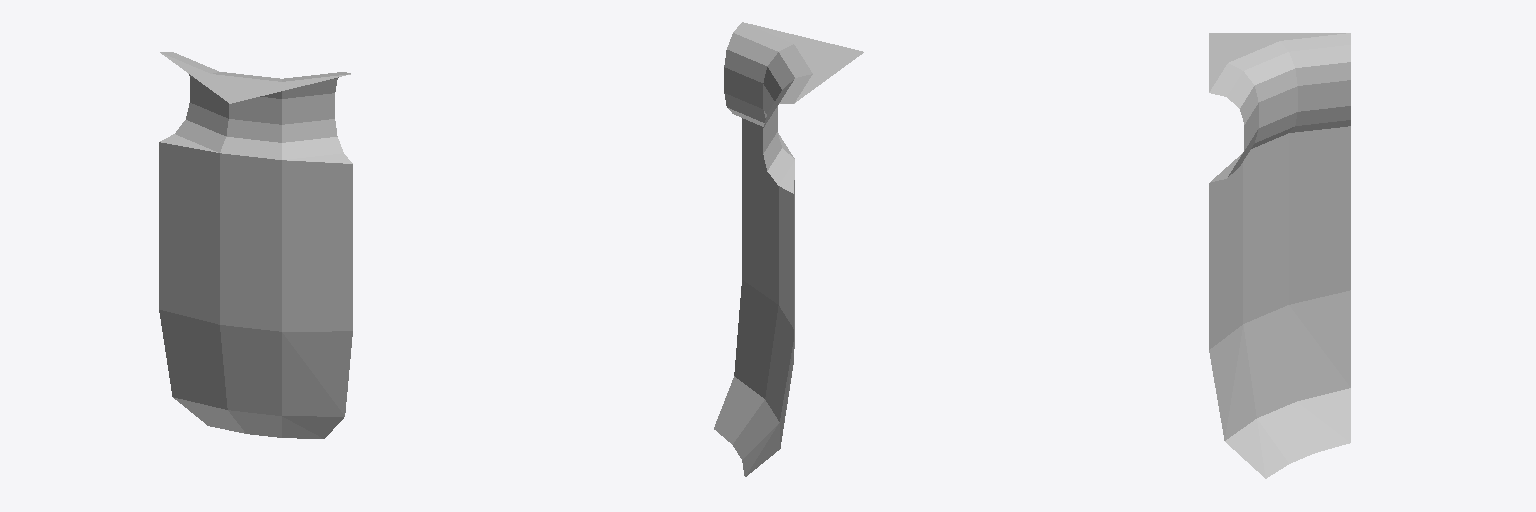
File: Terrain_Cliff_3_Tall_Corner_Inner_1x1.obj
3 renders of one model, left to right at view 1: azimuth 30°, elevation 25°; view 2: azimuth 150°, elevation 25°; view 3: azimuth 270°, elevation 25°, orthographic.
Parts seen in each view (by area): view 1: Rock, Grass; view 2: Rock, Grass; view 3: Rock, Grass.
Part boxes in pixels (left/top/right/bottom): Rock: left=159, top=142, right=352, bottom=438; Grass: left=160, top=52, right=352, bottom=163; Rock: left=714, top=118, right=794, bottom=476; Grass: left=724, top=22, right=863, bottom=193; Rock: left=1209, top=126, right=1350, bottom=478; Grass: left=1209, top=33, right=1350, bottom=182.
Bounding box in the file's own units: 1 × 3 × 1.